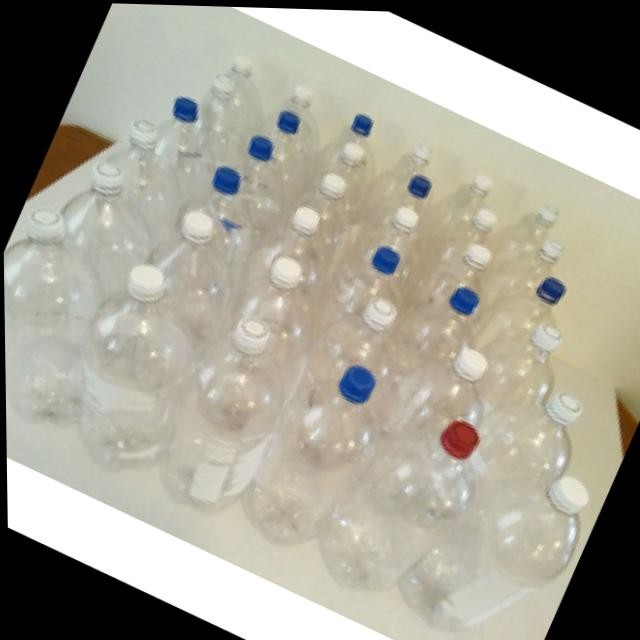plastic_water_bottles: (43, 254, 228, 487), (145, 298, 311, 529), (413, 435, 600, 640), (317, 390, 484, 616), (2, 200, 145, 436), (235, 343, 389, 557), (133, 187, 255, 318), (393, 325, 517, 451), (52, 156, 166, 277), (311, 279, 428, 386), (494, 370, 597, 484), (227, 238, 331, 346)
